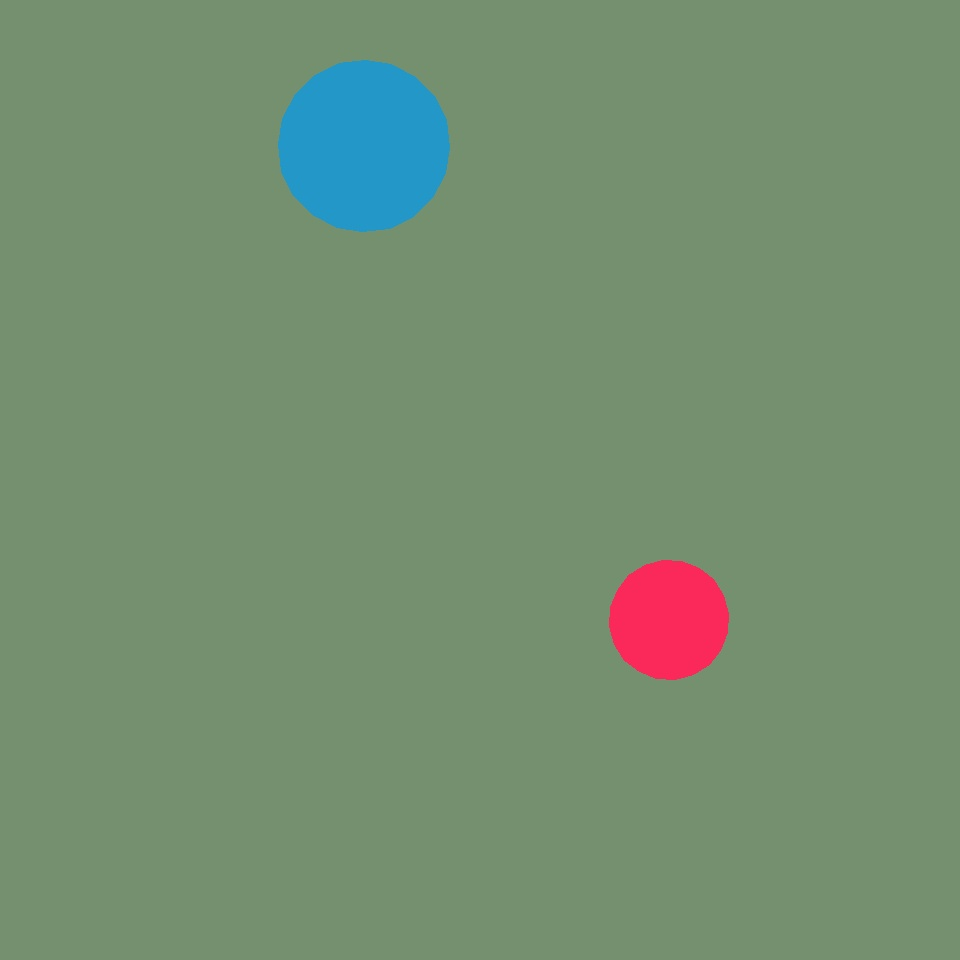circle: (493, 155, 620, 268)
square: (406, 162, 638, 395)
triangle: (186, 54, 524, 392), (99, 14, 435, 350), (278, 60, 450, 232), (610, 560, 728, 680)
